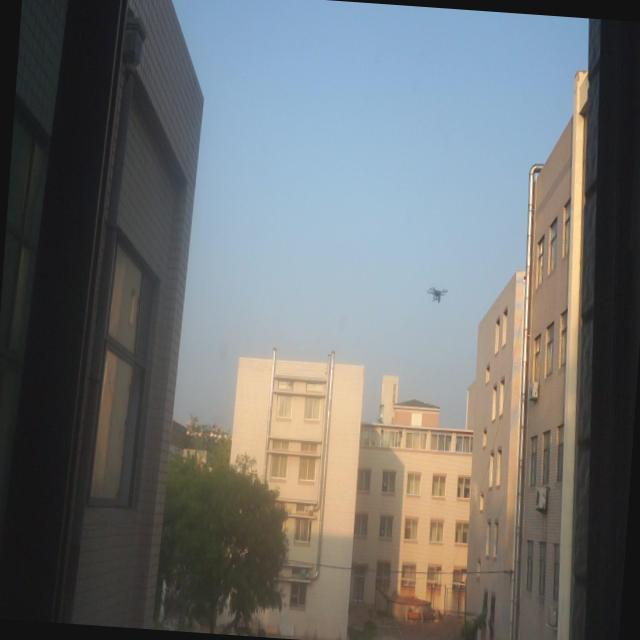drone: (426, 282, 448, 306)
